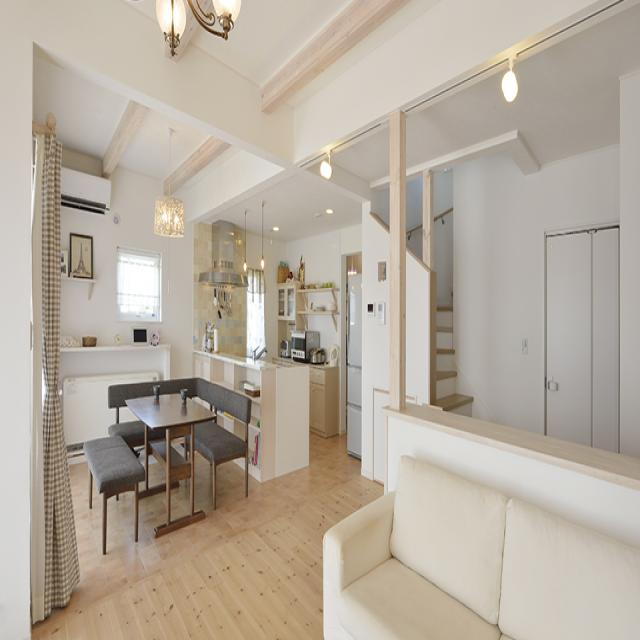natural desk: (126, 393, 214, 543)
natural sofa: (312, 444, 640, 640)
